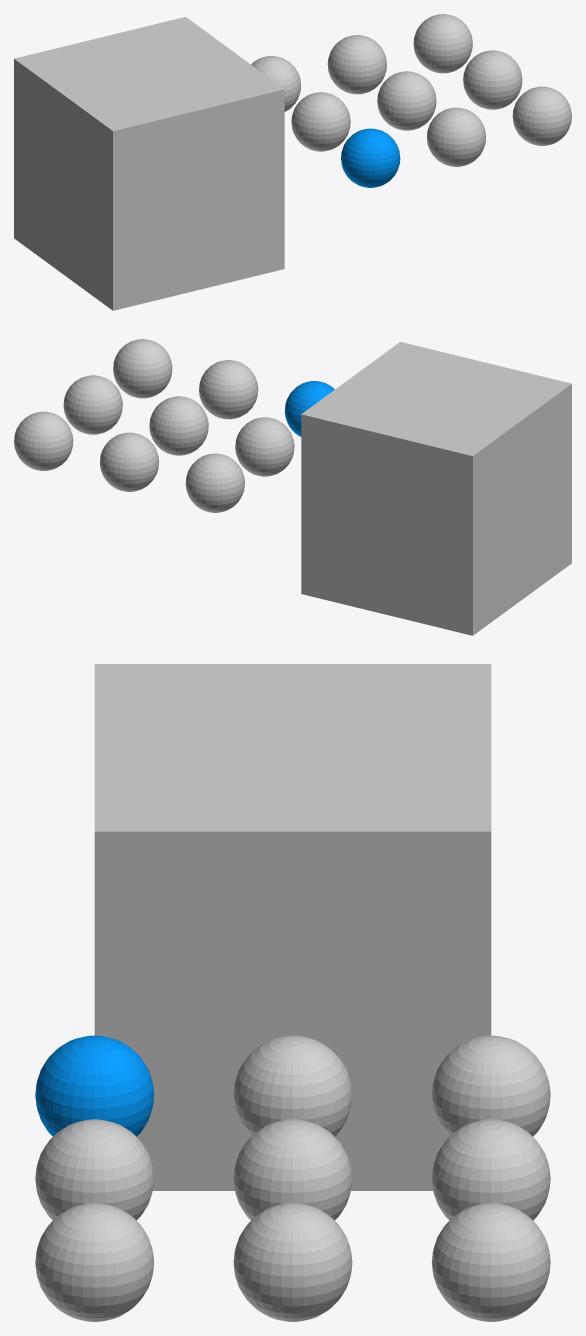
3 renders of one model, top to bottom at view 1: azimuth 30°, elevation 25°; view 2: azimuth 150°, elevation 25°; view 3: azimuth 270°, elevation 25°, orthographic. The views are drawn at different scales.
Parts seen in each view (by area): view 1: Wuerfel, Kugel_3, Kugel_4, Kugel_7, Kugel_0, Kugel_8, Kugel_2, Kugel_5, Kugel_1, Kugel_6; view 2: Wuerfel, Kugel_3, Kugel_4, Kugel_1, Kugel_2, Kugel_6, Kugel_8, Kugel_5, Kugel_7, Kugel_0; view 3: Wuerfel, Kugel_5, Kugel_2, Kugel_8, Kugel_4, Kugel_0, Kugel_6, Kugel_1, Kugel_7, Kugel_3.
Boxes of the visible parts, x1=… form: Wuerfel: x1=14, y1=17, x2=284, y2=310; Kugel_3: x1=291, y1=92, x2=350, y2=151; Kugel_4: x1=377, y1=71, x2=436, y2=130; Kugel_7: x1=327, y1=35, x2=386, y2=94; Kugel_0: x1=341, y1=128, x2=400, y2=187; Kugel_8: x1=413, y1=14, x2=472, y2=73; Kugel_2: x1=512, y1=86, x2=571, y2=145; Kugel_5: x1=463, y1=50, x2=522, y2=109; Kugel_1: x1=427, y1=107, x2=485, y2=166; Kugel_6: x1=251, y1=56, x2=301, y2=111; Wuerfel: x1=301, y1=342, x2=571, y2=635; Kugel_3: x1=235, y1=417, x2=294, y2=476; Kugel_4: x1=149, y1=396, x2=208, y2=455; Kugel_1: x1=199, y1=360, x2=258, y2=419; Kugel_2: x1=113, y1=339, x2=172, y2=398; Kugel_6: x1=185, y1=453, x2=244, y2=512; Kugel_8: x1=14, y1=411, x2=73, y2=470; Kugel_5: x1=63, y1=375, x2=122, y2=434; Kugel_7: x1=100, y1=432, x2=158, y2=491; Kugel_0: x1=284, y1=381, x2=334, y2=436; Wuerfel: x1=94, y1=664, x2=491, y2=1190; Kugel_5: x1=233, y1=1203, x2=352, y2=1321; Kugel_2: x1=35, y1=1203, x2=154, y2=1321; Kugel_8: x1=431, y1=1203, x2=550, y2=1321; Kugel_4: x1=233, y1=1119, x2=352, y2=1220; Kugel_0: x1=35, y1=1035, x2=154, y2=1136; Kugel_6: x1=431, y1=1035, x2=550, y2=1136; Kugel_1: x1=35, y1=1119, x2=154, y2=1220; Kugel_7: x1=431, y1=1119, x2=550, y2=1220; Kugel_3: x1=233, y1=1035, x2=352, y2=1136.
Bounding box in the file's own units: 5.3 × 2 × 2.6.
